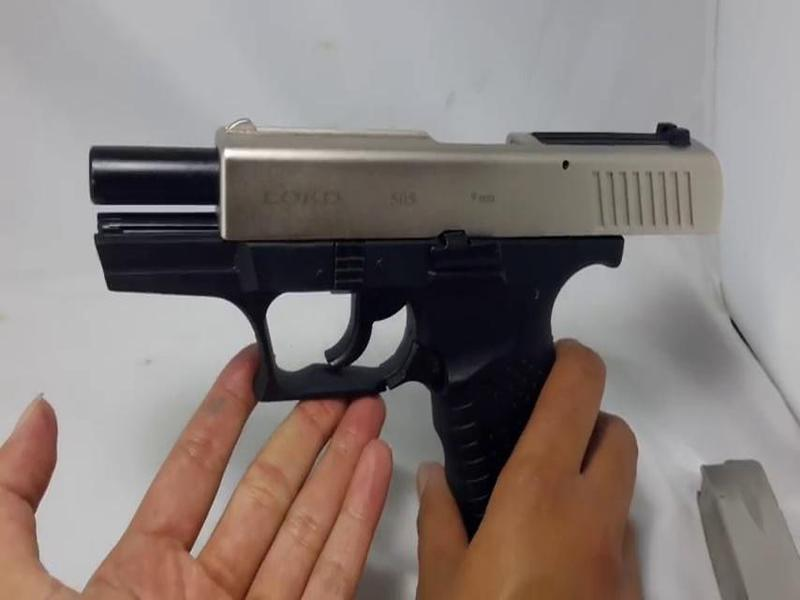Pistola: (69, 119, 733, 578)
